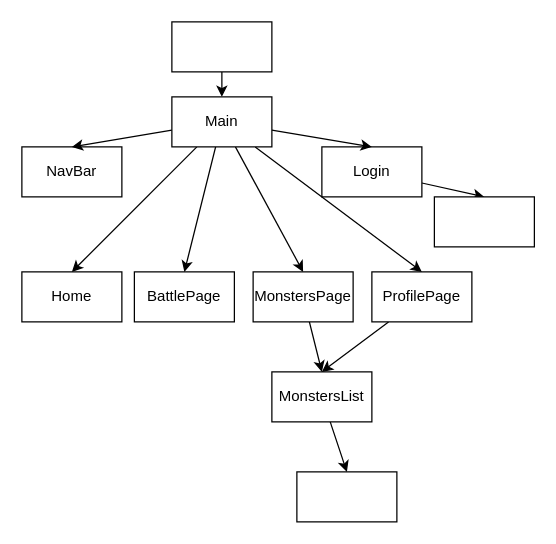
The diagram is 556 pixels wide and 544 high, and some of its shapes have lost their labels. The shapes that lost their labels are listed below. From the top down, each one's centre as x and y in pixels, then its label:
At (221,46): "App".
At (483,221): "Create User".
At (346,496): "MonsterCard".
